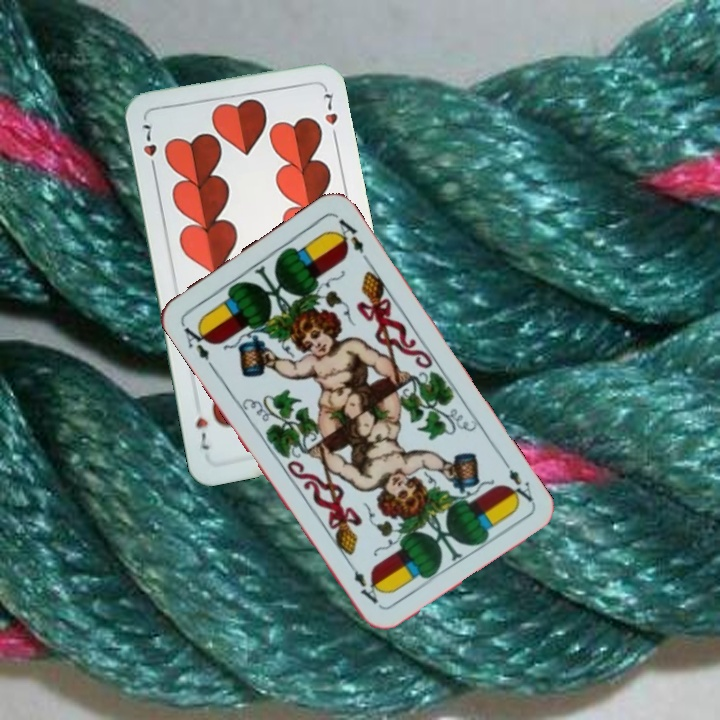EA: (497, 453, 536, 507), (177, 319, 215, 363)
H7: (139, 120, 160, 175)
